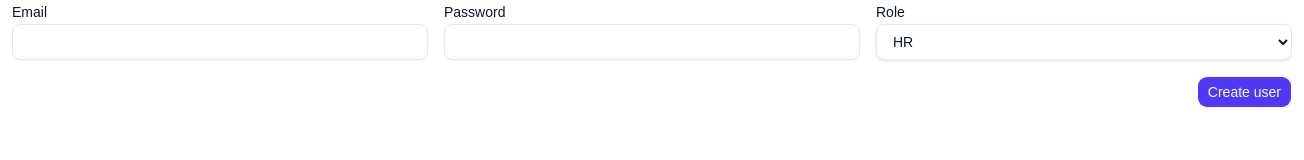
it: UserCreateForm › rejects passwords shorter than 8 characters to mirror the backend rule
The width and height of the screenshot is (1304, 160).
Type "hr@example.com" into the field labelled "Email" at (220, 42), box [12,24,428,60]
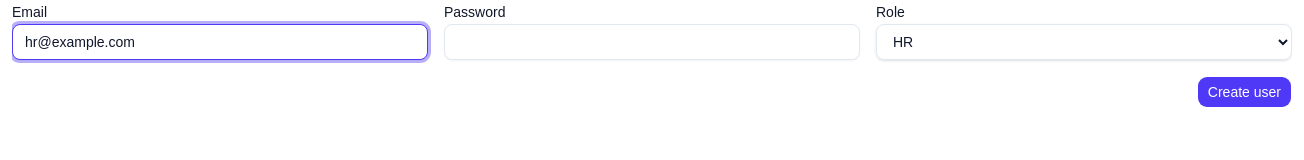
Type "short" into the password field labelled "Password" at (652, 42), box [444,24,860,60]
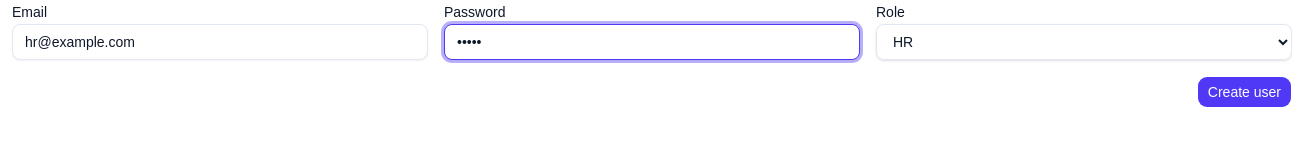
Click the button "Create user" at (1244, 92), box [1197,76,1292,108]
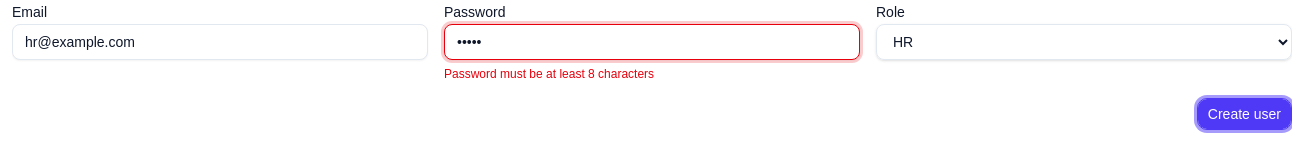
Expected: the text "Password must be at least 8 characters" is shown, [444,67,654,81]
